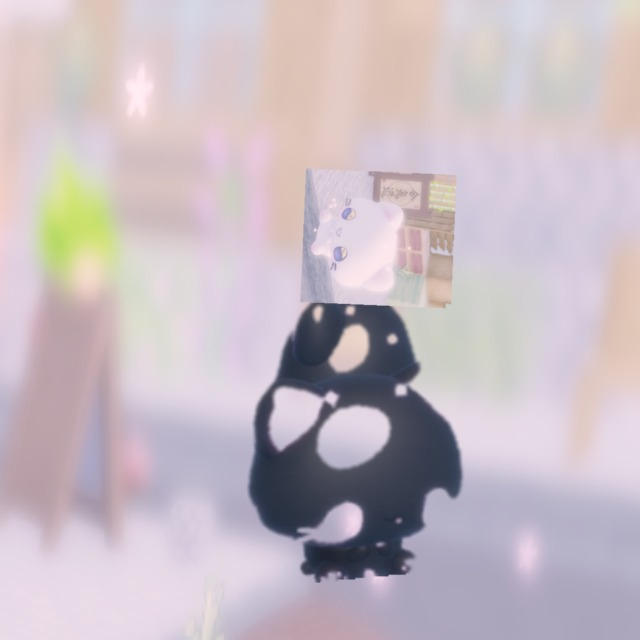urso_branco: (300, 168, 457, 309)
urso_preto: (219, 251, 493, 589)
